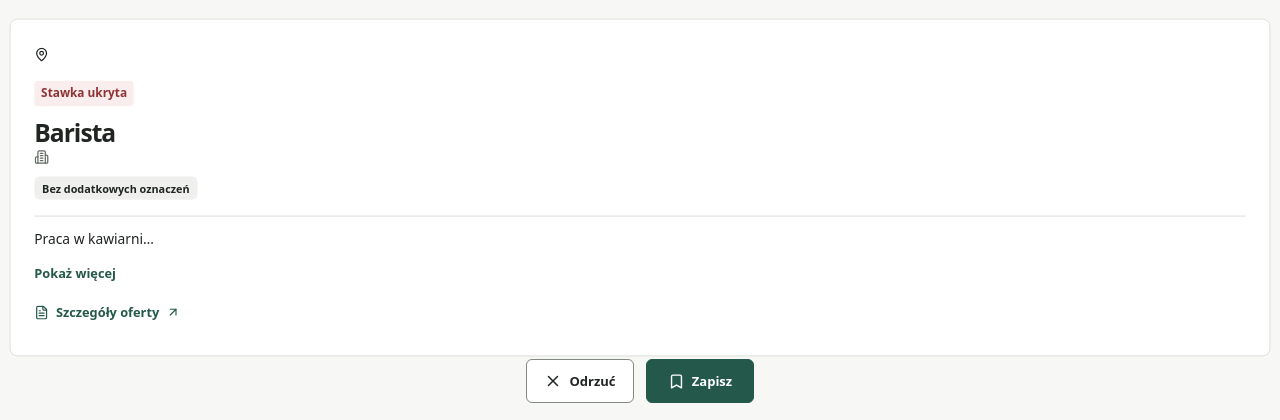
Scenario: swipe card transitions › offers expansion when a trailing ellipsis stands in for the last character
Click the button with class "job-description-toggle". click: (75, 273)
box: x1=34 y1=253 x2=116 y2=293
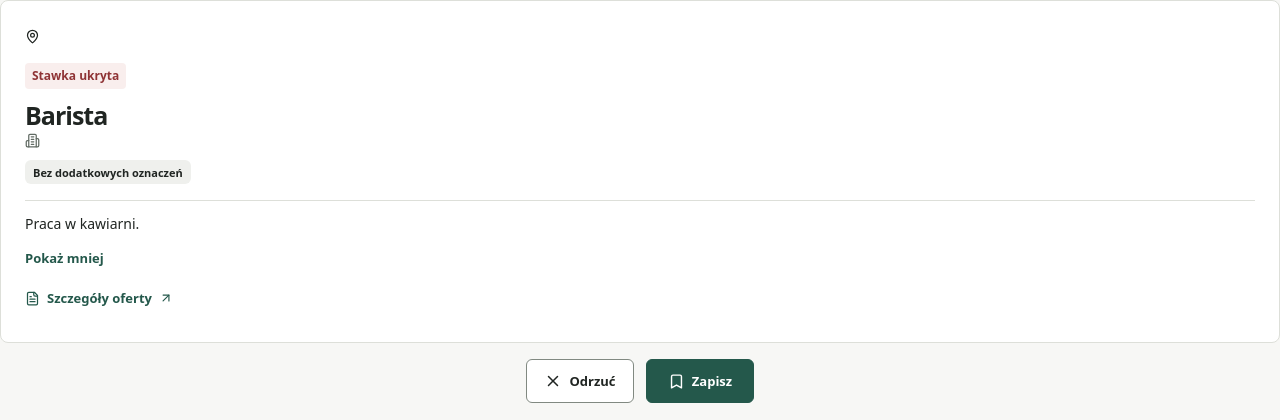
Now the text with class "job-description-expanded" reads "Praca w kawiarni.", box x1=25 y1=214 x2=139 y2=233
